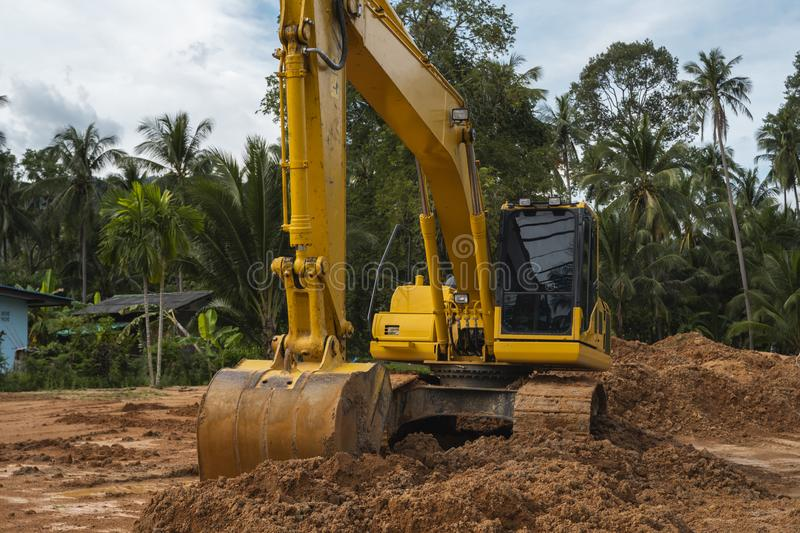excavator: (190, 1, 614, 505)
